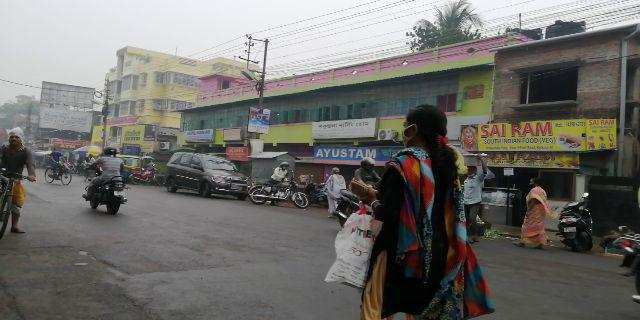Car: (166, 152, 246, 198)
Motorbike: (250, 161, 307, 214), (87, 146, 126, 210)
